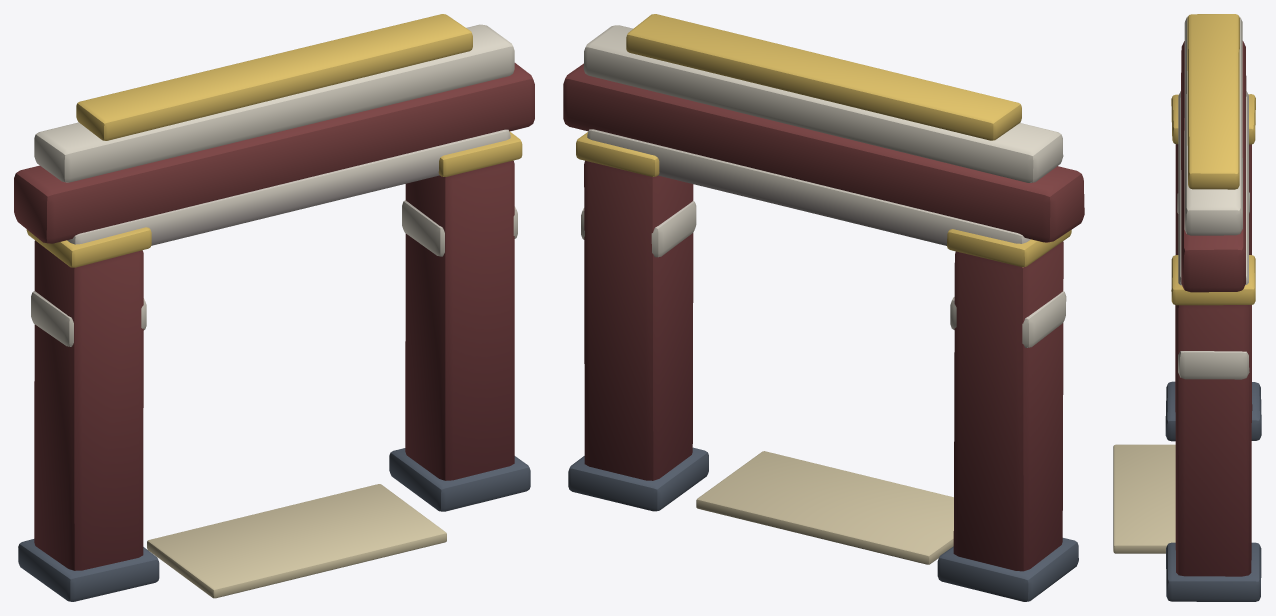
The picture shows the model from 3 angles, left to right: view 1: azimuth 30°, elevation 25°; view 2: azimuth 150°, elevation 25°; view 3: azimuth 270°, elevation 25°; orthographic projection. The views are drawn at different scales.
Visible parts, largest first — view 1: gate_bf0e23bc; view 2: gate_bf0e23bc; view 3: gate_bf0e23bc.
Boxes of the visible parts, left/top/right/bottom form: gate_bf0e23bc: left=14, top=14, right=534, bottom=601; gate_bf0e23bc: left=563, top=14, right=1084, bottom=601; gate_bf0e23bc: left=1113, top=14, right=1261, bottom=601.
Bounding box in the file's own units: 5.05 × 4.53 × 1.48.
